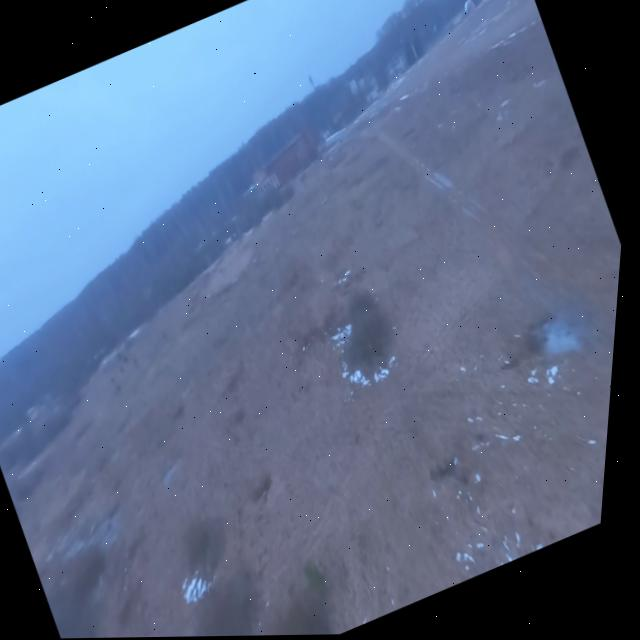planedrone: (236, 176, 267, 198)
